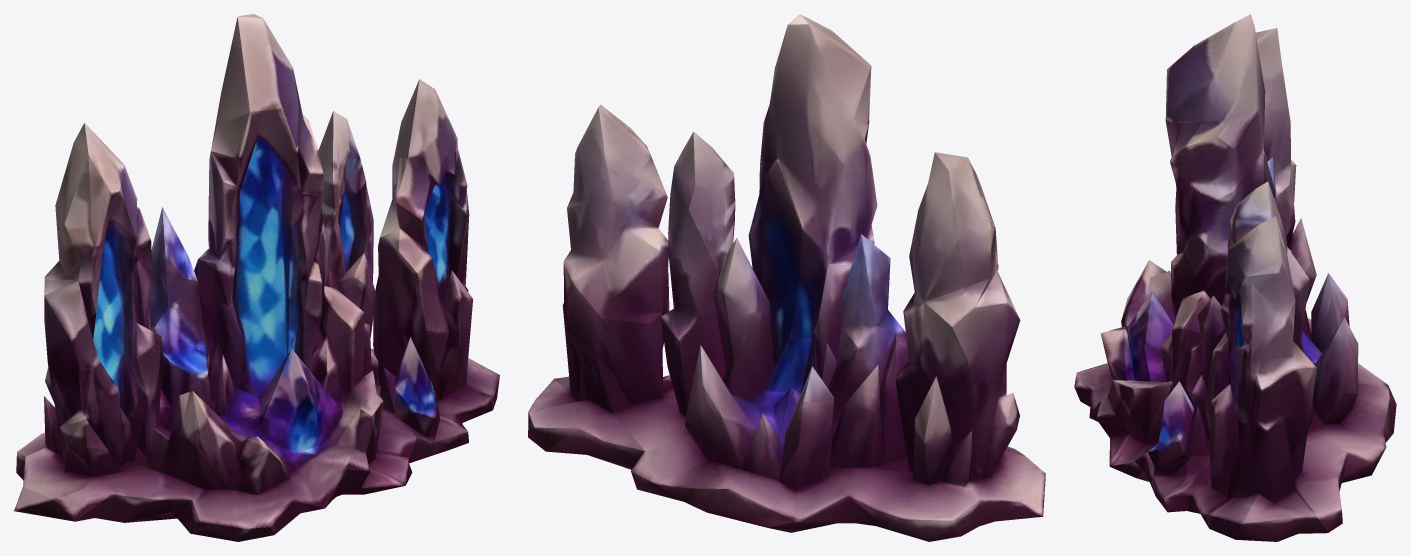
Rendered from m2Stalagmites.glb.
3 views of the same model, side by side, from view 1: azimuth 30°, elevation 25°; view 2: azimuth 150°, elevation 25°; view 3: azimuth 270°, elevation 25° (orthographic). The views are drawn at different scales.
Parts seen in each view (by area): view 1: model; view 2: model; view 3: model.
Part boxes in pixels (left/top/right/bottom): model: left=14, top=14, right=499, bottom=541; model: left=528, top=14, right=1045, bottom=541; model: left=1074, top=14, right=1396, bottom=541.
Bounding box in the file's own units: 1.91 × 1.66 × 1.17.
1 material, 1 textured.
